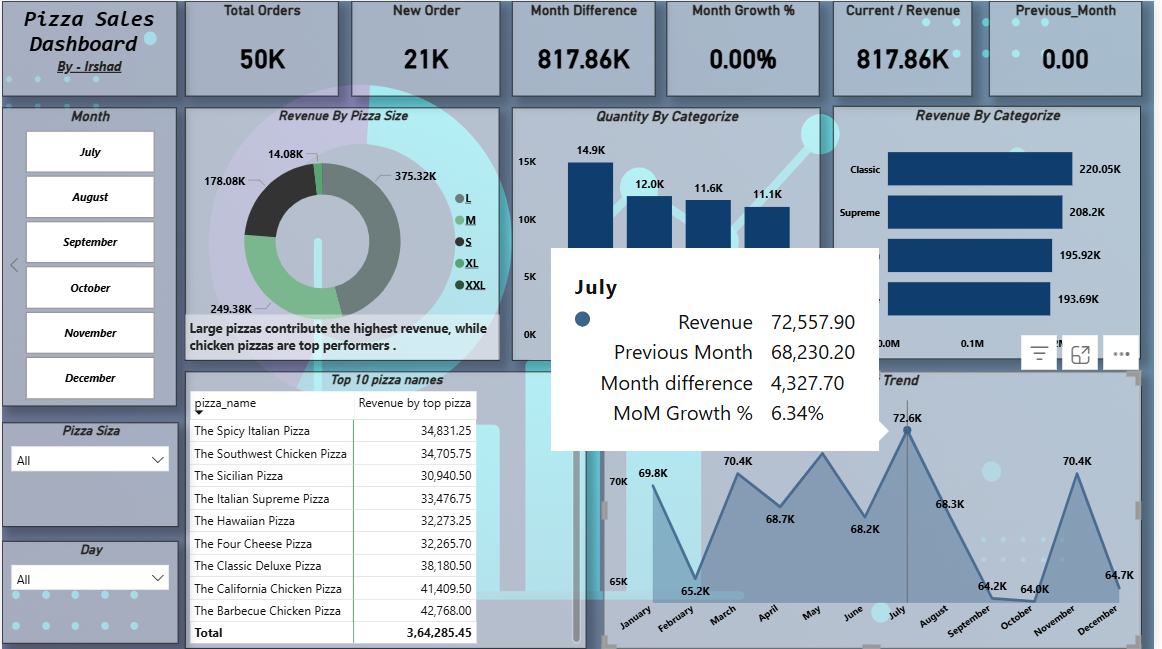

This screenshot's page, from the dashboard's own definition file:
{"tool":"powerbi","page":{"name":"Dashboard","canvas":[1280,720],"ordinal":0},"visuals":[{"type":"lineChart","title":"Monthly Trend ","fields":{"Category":["Date.Date.Variation.Date Hierarchy.Month"],"Y":["Sum(public pizzaa.total_price)"]},"box":[667.6,412.5,598,308.1],"z":0},{"type":"clusteredBarChart","title":"Revenue By Categorize ","fields":{"Category":["public pizzaa.pizza_category"],"Y":["Sum(public pizzaa.total_price)"]},"box":[924.1,117.2,342,281.6],"z":1000},{"type":"columnChart","title":"Quantity By Categorize","fields":{"Category":["public pizzaa.pizza_category"],"Y":["Sum(public pizzaa.quantity)"]},"box":[566.5,117.6,342.9,281.6],"z":2000},{"type":"donutChart","title":"Revenue By Pizza Size","fields":{"Category":["public pizzaa.pizza_size"],"Y":["public pizzaa.Revenue"]},"box":[203.7,117.6,349.5,281.6],"z":3000},{"type":"pivotTable","title":"Top 10 pizza names","fields":{"Values":["Sum(public pizzaa.total_price)"],"Rows":["public pizzaa.pizza_name"]},"box":[204.1,412,446,308],"z":4000},{"type":"card","title":"Previous_Month","fields":{"Values":["public pizzaa.Previous_month"]},"box":[1096.1,0,170.1,105.8],"z":5000},{"type":"card","title":"Current / Revenue","fields":{"Values":["public pizzaa.Revenue"]},"box":[924.1,0,155,105.8],"z":6000},{"type":"card","title":"Month Growth %","fields":{"Values":["public pizzaa.MoM Growth %"]},"box":[738.9,0,170.1,105.8],"z":7000},{"type":"card","title":"New Order","fields":{"Values":["public pizzaa.order_count"]},"box":[387.6,0,165.6,106],"z":8000},{"type":"card","title":"Month Difference ","fields":{"Values":["public pizzaa.MoM Growth"]},"box":[566.5,0,159,106],"z":9000},{"type":"card","title":"Total Orders","fields":{"Values":["Sum(public pizzaa.quantity)"]},"box":[203.7,0,170.6,106],"z":10000},{"type":"textbox","box":[0,0,194.6,105.8],"z":11000},{"type":"slicer","title":"Month","fields":{"Values":["Date.Date.Variation.Date Hierarchy.Month"]},"box":[0,118,194,332],"z":12000},{"type":"slicer","title":"Pizza Siza","fields":{"Values":["public pizzaa.pizza_size"]},"box":[0,468,196,116],"z":13000},{"type":"slicer","title":"Day","fields":{"Values":["Date.Date.Variation.Date Hierarchy.Day"]},"box":[0,600,196,114],"z":14000},{"type":"textbox","box":[203.3,348.3,350,50],"z":15000},{"type":"textbox","box":[666.9,411.5,242.4,69.9],"z":16000}]}

Visuals, with their boxes in screenshot pixels (x1, y1, x2, y2), scaled from the page's 1280x720 canvas onto the 1162x649 screenshot:
"Monthly Trend " lineChart: region(606, 372, 1149, 648)
"Revenue By Categorize " clusteredBarChart: region(839, 106, 1149, 359)
"Quantity By Categorize" columnChart: region(514, 106, 826, 360)
"Revenue By Pizza Size" donutChart: region(185, 106, 502, 360)
"Top 10 pizza names" pivotTable: region(185, 371, 590, 648)
"Previous_Month" card: region(995, 0, 1149, 95)
"Current / Revenue" card: region(839, 0, 980, 95)
"Month Growth %" card: region(671, 0, 825, 95)
"New Order" card: region(352, 0, 502, 96)
"Month Difference " card: region(514, 0, 659, 96)
"Total Orders" card: region(185, 0, 340, 96)
textbox: region(0, 0, 177, 95)
"Month" slicer: region(0, 106, 176, 406)
"Pizza Siza" slicer: region(0, 422, 178, 526)
"Day" slicer: region(0, 541, 178, 644)
textbox: region(185, 314, 502, 359)
textbox: region(605, 371, 825, 434)
